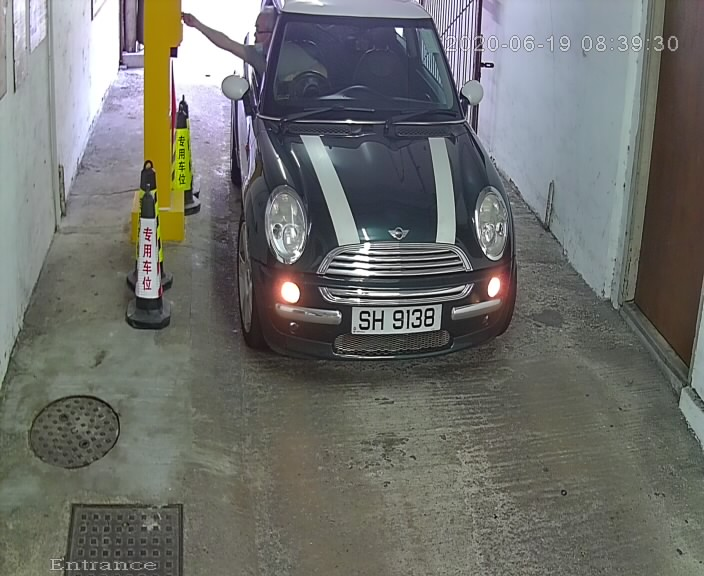bottom_left_lp: (349, 328, 357, 334)
bottom_left_radiator: (320, 286, 339, 305)
bottom_left_windshield: (252, 104, 269, 116)
bottom_right_lp: (436, 324, 442, 331)
bottom_right_radiator: (453, 281, 475, 302)
bottom_right_windshield: (451, 106, 480, 135)
brand: (386, 223, 410, 240)
left_headlight: (261, 185, 318, 266)
right_headlight: (471, 183, 512, 261)
top_left_lp: (350, 304, 357, 313)
top_left_radiator: (325, 246, 340, 258)
top_left_windshield: (274, 7, 287, 22)
top_right_lp: (437, 302, 442, 311)
top_right_radiator: (449, 243, 464, 256)
top_right_windshield: (422, 14, 437, 28)
